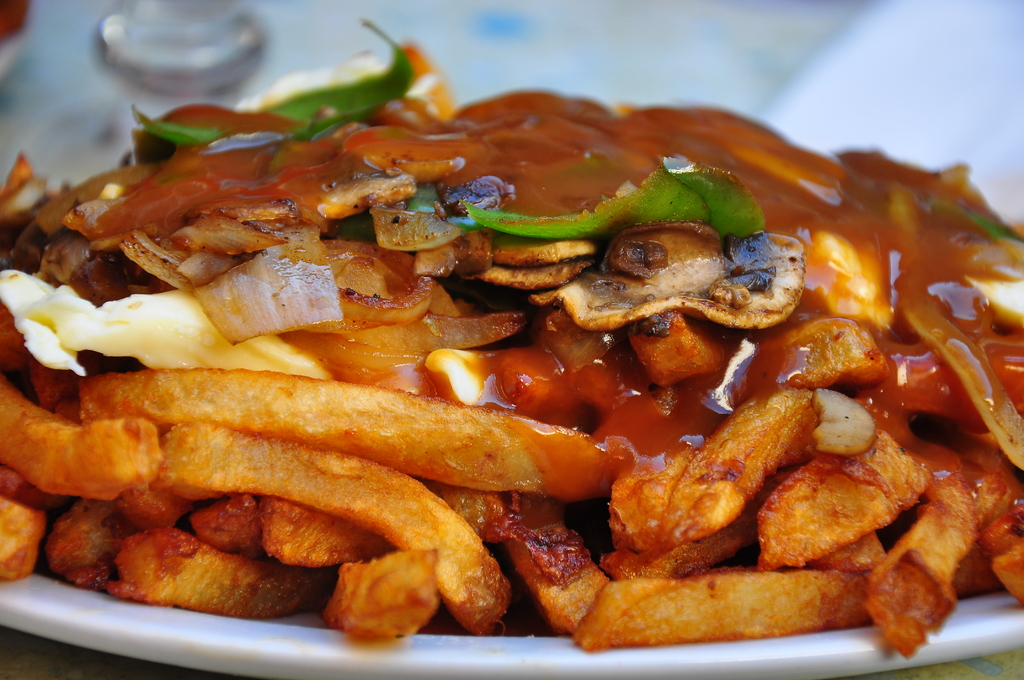French fries: (0, 289, 1023, 664)
